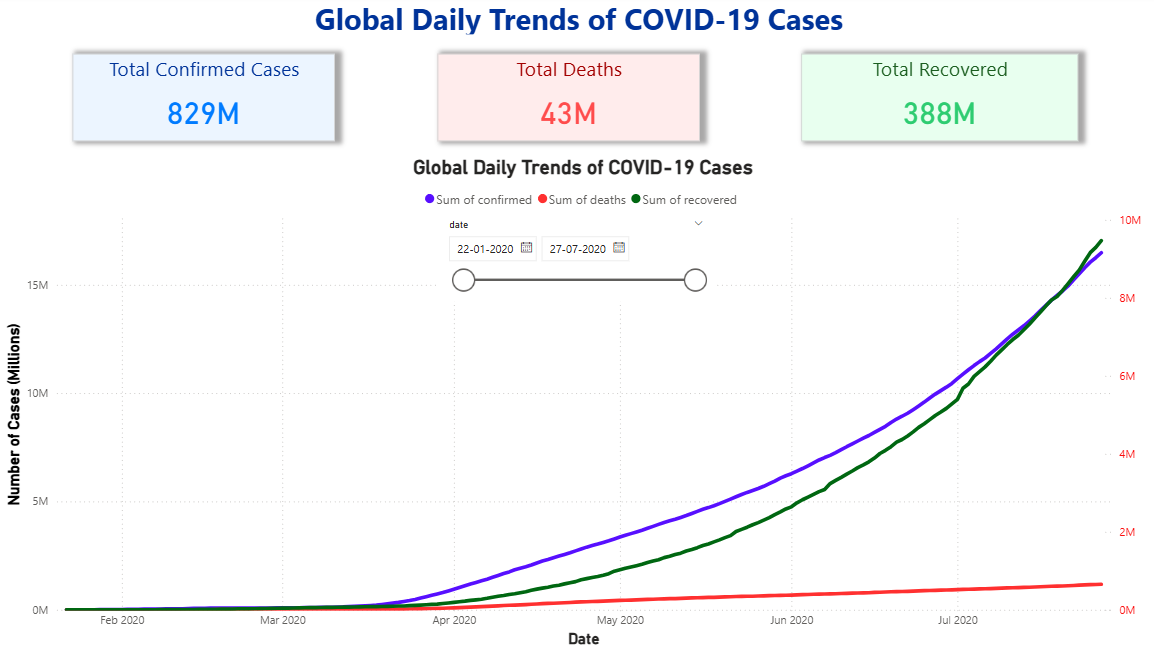

The page's visual inventory and layout, read from the dashboard file:
{"tool":"powerbi","page":{"name":"Daily Trends","canvas":[1280,720],"ordinal":0},"visuals":[{"type":"group","id":"g1","title":"Group 1","box":[0,64,1280,656],"z":0},{"type":"lineChart","title":"Global Daily Trends of COVID-19 Cases","fields":{"Y":["Sum(day_cleaned.confirmed)"],"Y2":["Sum(day_cleaned.deaths)","Sum(day_cleaned.recovered)"],"Category":["day_cleaned.date"]},"box":[0,176,1280,544],"z":0,"group":"g1"},{"type":"textbox","box":[0,0,1280,48],"z":1000},{"type":"slicer","fields":{"Values":["day_cleaned.date"]},"box":[480,240,304,96],"z":1000,"group":"g1"},{"type":"card","title":"Total Confirmed Cases","fields":{"Values":["Sum(day_cleaned.confirmed)"]},"box":[80,64,288,96],"z":2000,"group":"g1"},{"type":"card","title":"Total Deaths","fields":{"Values":["Sum(day_cleaned.deaths)"]},"box":[480,64,288,96],"z":3000,"group":"g1"},{"type":"card","title":"Total Recovered","fields":{"Values":["Sum(day_cleaned.recovered)"]},"box":[880,64,304,96],"z":4000,"group":"g1"}]}

Visuals, with their boxes in screenshot pixels (x1, y1, x2, y2), scaled from the page's 1280x720 canvas onto the 1154x646 screenshot:
"Group 1" group: 0, 57, 1153, 645
"Global Daily Trends of COVID-19 Cases" lineChart: 0, 158, 1153, 645
textbox: 0, 0, 1153, 43
slicer - day_cleaned.date: 433, 215, 707, 301
"Total Confirmed Cases" card: 72, 57, 332, 144
"Total Deaths" card: 433, 57, 692, 144
"Total Recovered" card: 793, 57, 1067, 144
